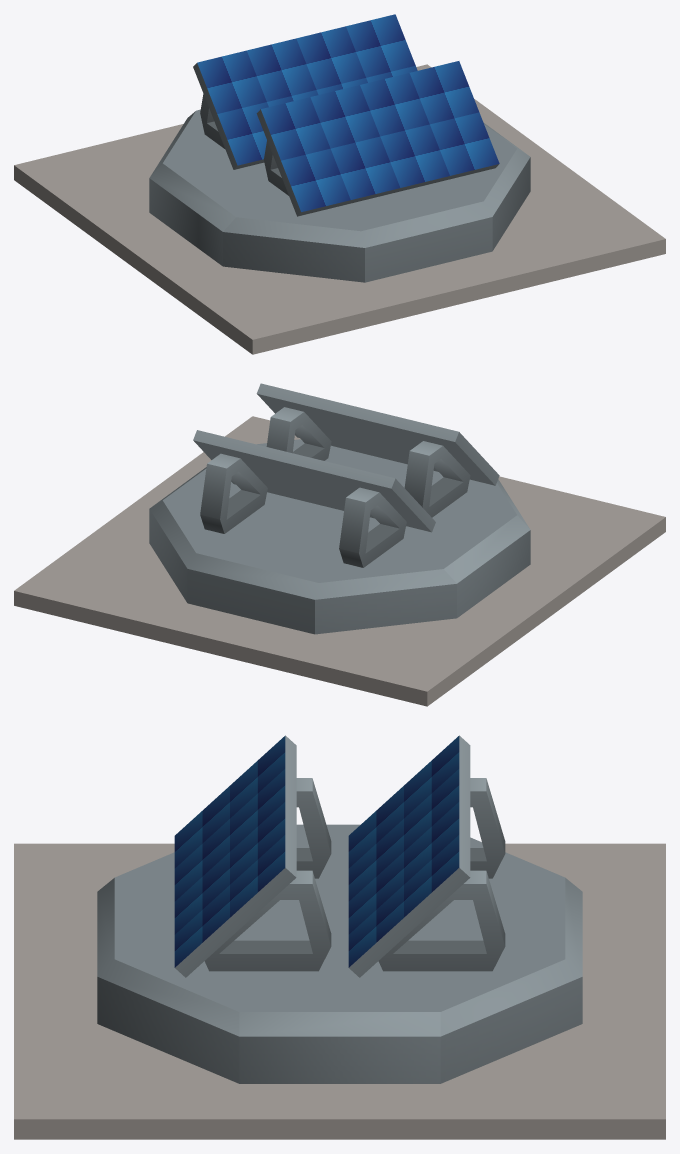
The model's file is solar_panel.glb.
The picture shows the model from 3 angles, top to bottom: view 1: azimuth 30°, elevation 25°; view 2: azimuth 150°, elevation 25°; view 3: azimuth 270°, elevation 25°; orthographic projection. The views are drawn at different scales.
Parts seen in each view (by area): view 1: Solarpanel; view 2: Solarpanel; view 3: Solarpanel.
Part boxes in pixels (left/top/right/bottom): Solarpanel: left=14, top=14, right=665, bottom=354; Solarpanel: left=14, top=383, right=665, bottom=706; Solarpanel: left=14, top=735, right=665, bottom=1139.
Size of the model in its own units: 0.29 by 0.0983 by 0.29.
Materials: 1 (1 with a texture image).
